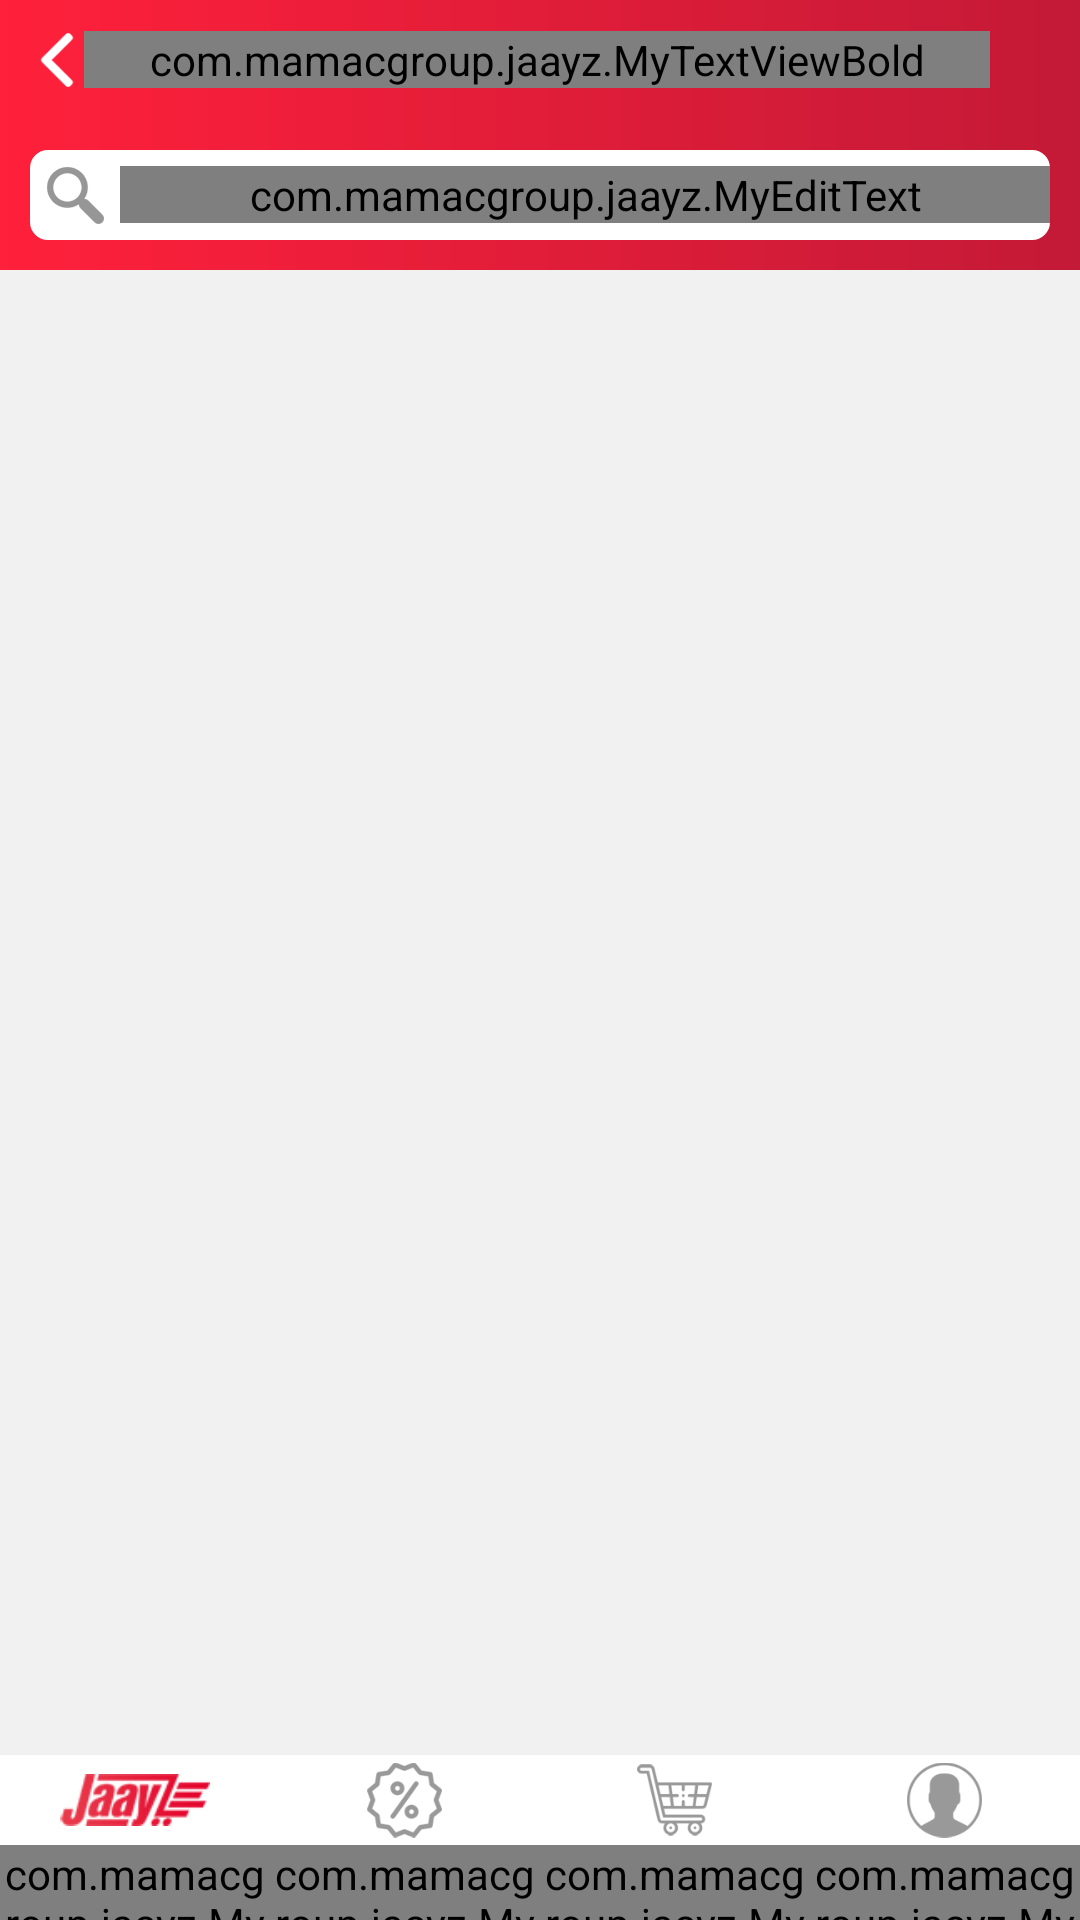

Where to tap for icons on this 1080px×1920px app screen, as (x=x, y=y):
back: (x=57, y=60)
cart: (x=674, y=1800)
offer: (x=404, y=1800)
search: (x=75, y=195)
user: (x=944, y=1800)
